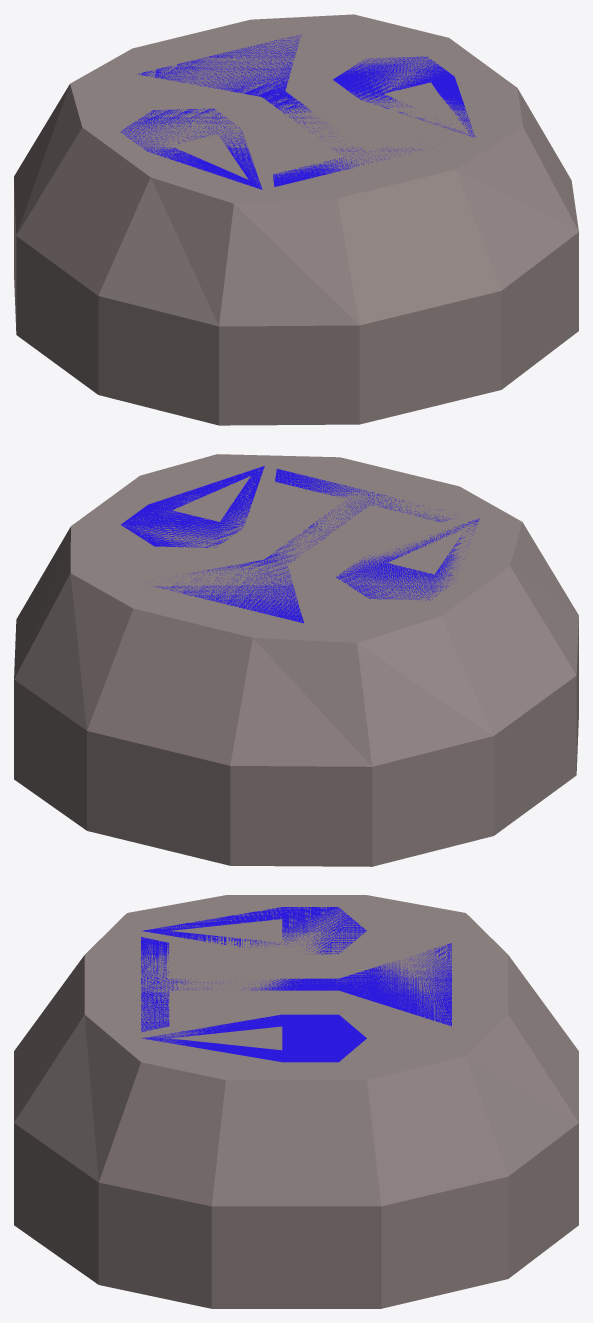
Rendered from inv_law_rune.obj.
The picture shows the model from 3 angles, top to bottom: view 1: azimuth 30°, elevation 25°; view 2: azimuth 150°, elevation 25°; view 3: azimuth 270°, elevation 25°; orthographic projection. The views are drawn at different scales.
Size of the model in its own units: 0.3125 by 0.125 by 0.3125.
